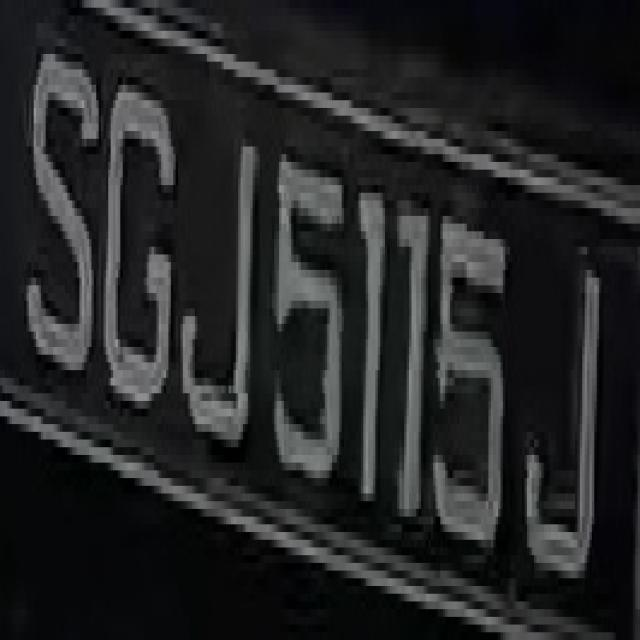1: (392, 154, 428, 555), (352, 139, 388, 532)
5: (267, 108, 344, 486), (438, 170, 505, 570)
G: (94, 31, 173, 432)
J: (173, 77, 265, 478), (524, 224, 608, 609)
S: (19, 8, 96, 378)
